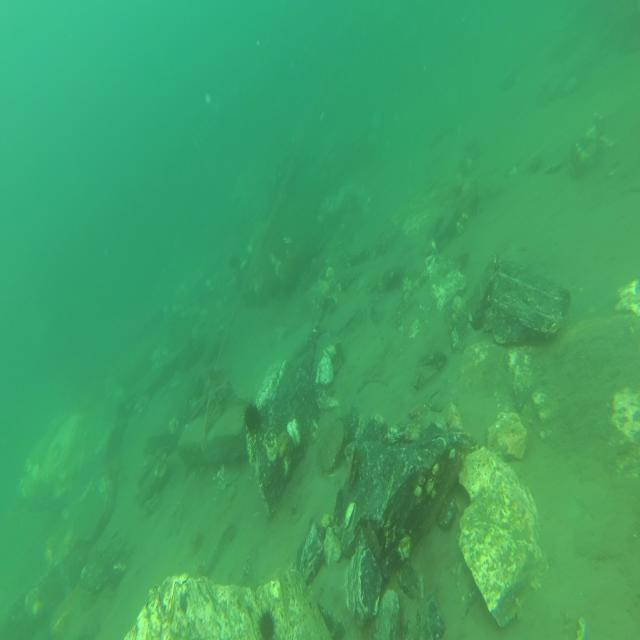echinus: (242, 399, 263, 438), (255, 607, 279, 640)
